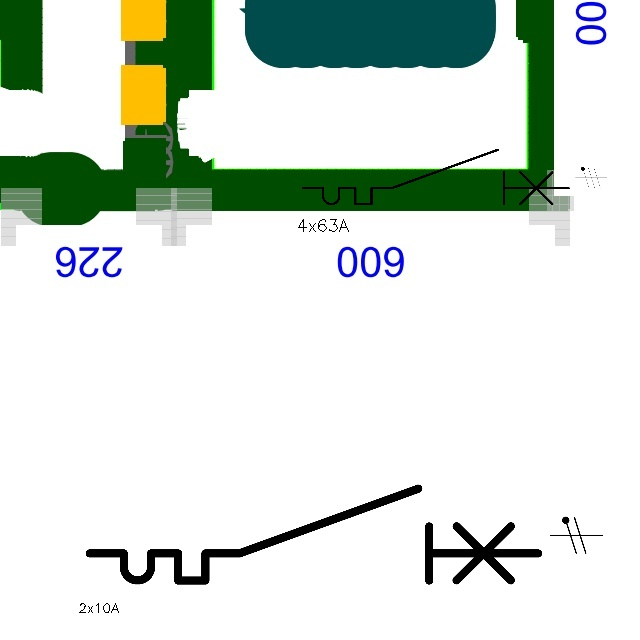interruptor_termomagnetico: (78, 477, 549, 592), (296, 143, 575, 211)
